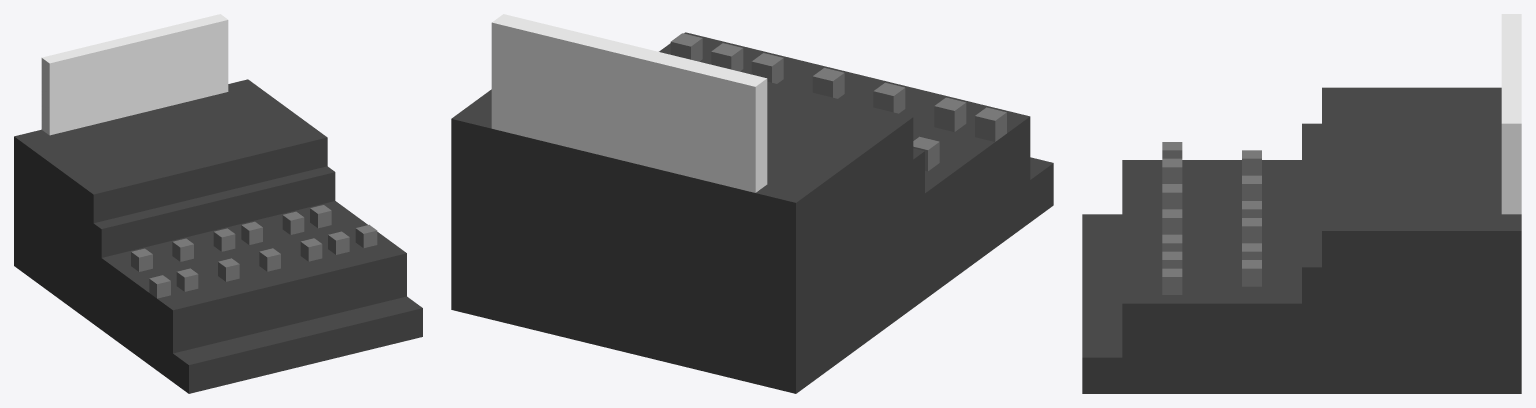
The model's file is Cashier.gltf.
3 views of the same model, side by side, from view 1: azimuth 30°, elevation 25°; view 2: azimuth 150°, elevation 25°; view 3: azimuth 270°, elevation 25° (orthographic). The views are drawn at different scales.
Visible parts, largest first — view 1: Layer.1; view 2: Layer.1; view 3: Layer.1.
Boxes of the visible parts, x1,y1,x2,y2 form: Layer.1: [14, 14, 422, 393]; Layer.1: [451, 14, 1053, 393]; Layer.1: [1082, 14, 1521, 393].
Bounding box in the file's own units: 17 × 14 × 22.
1 material, 1 textured.
